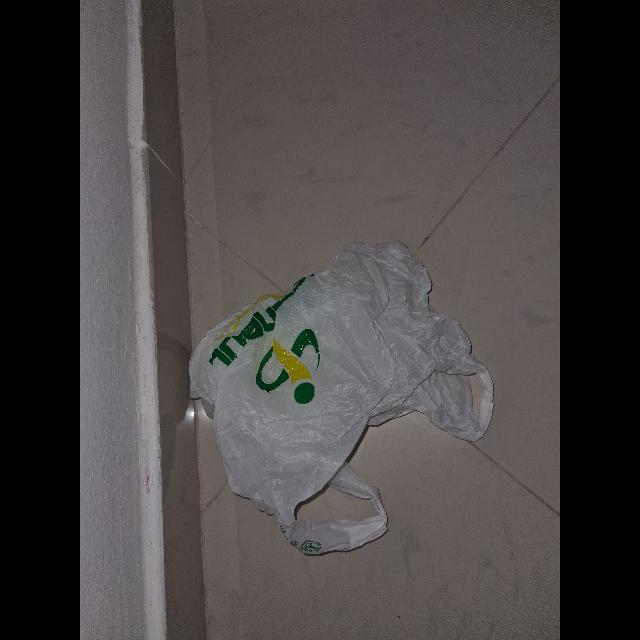plastic_bag: (196, 247, 494, 551)
